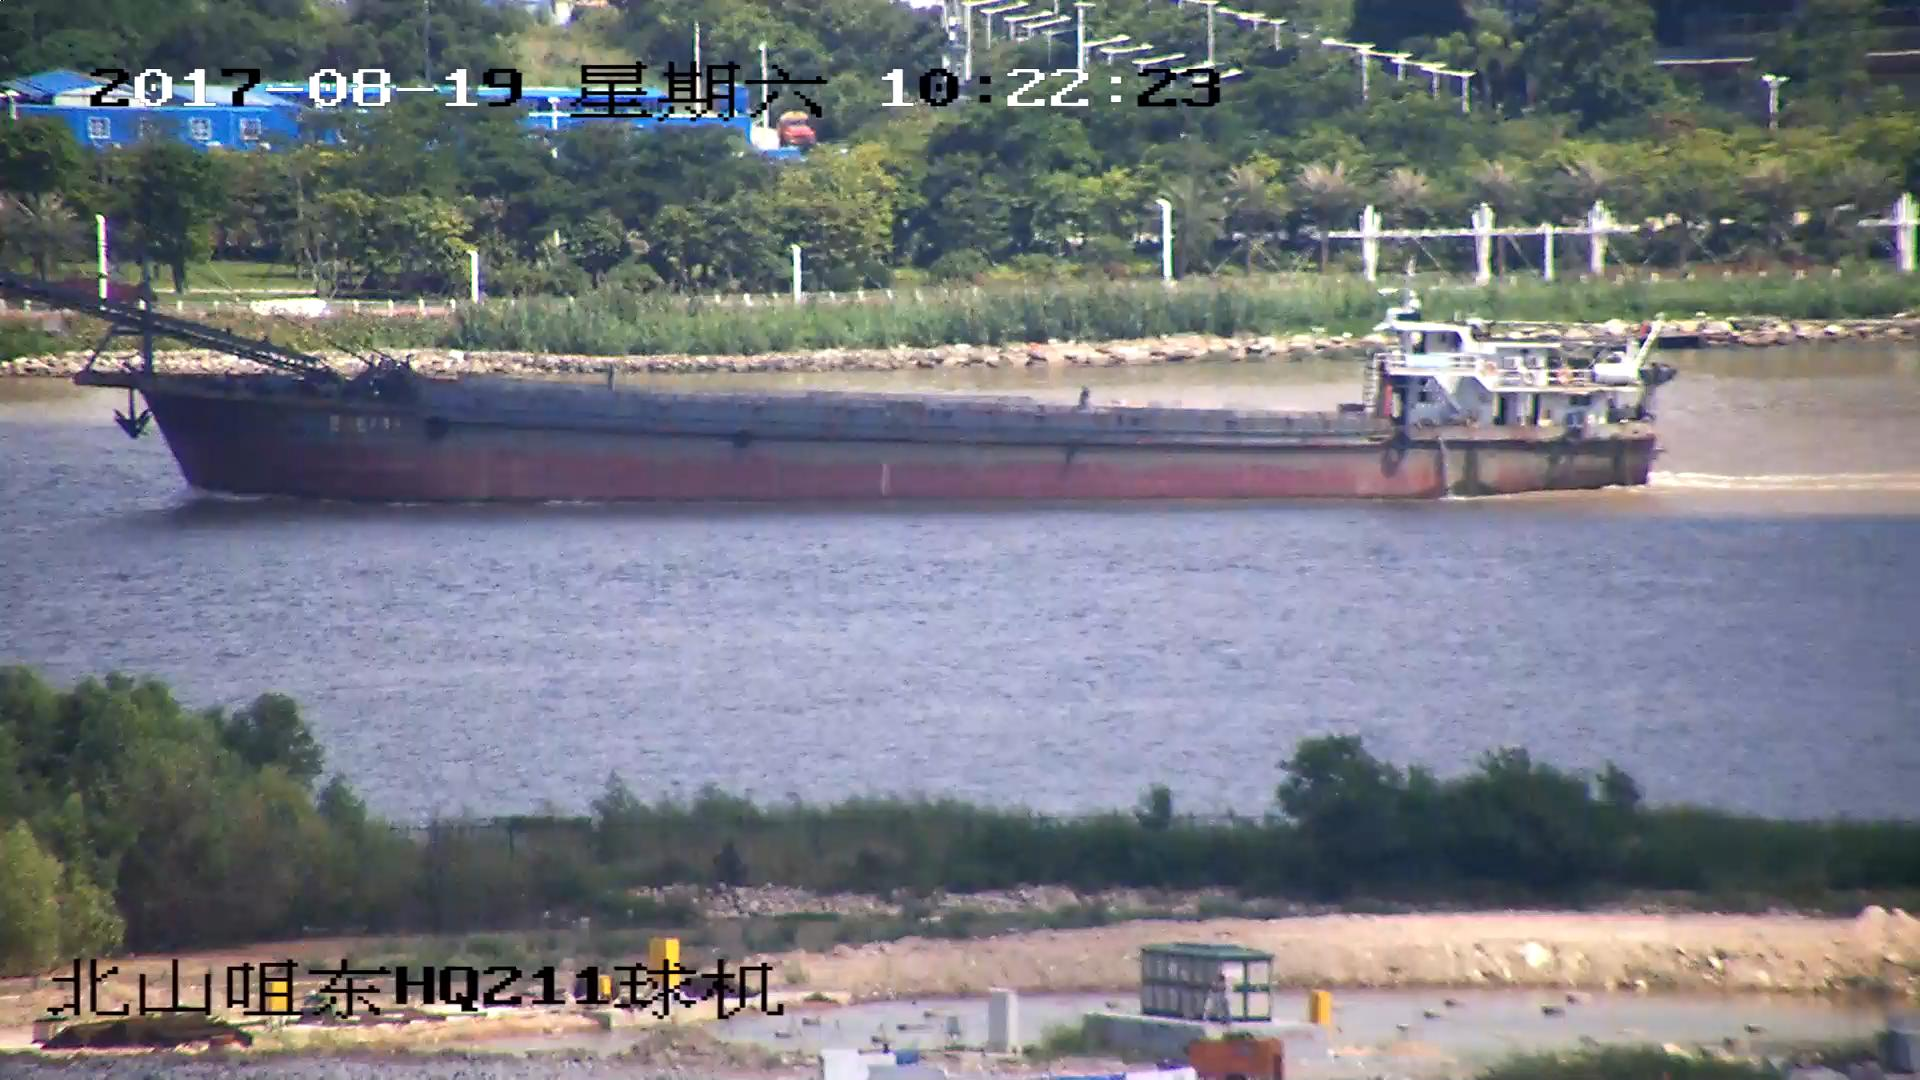bulk cargo carrier: (1, 237, 1673, 506)
